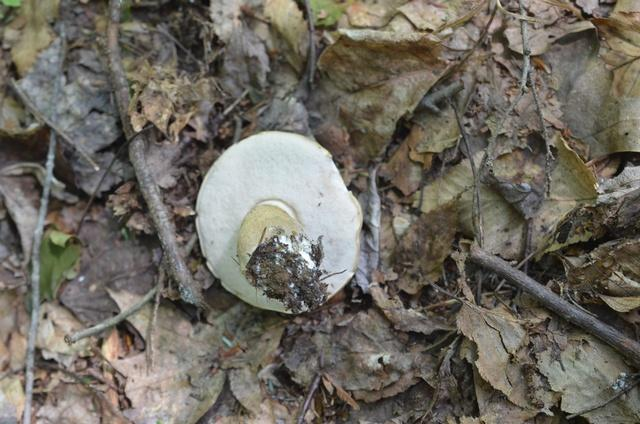poisonous_mushroom: (193, 129, 364, 316)
